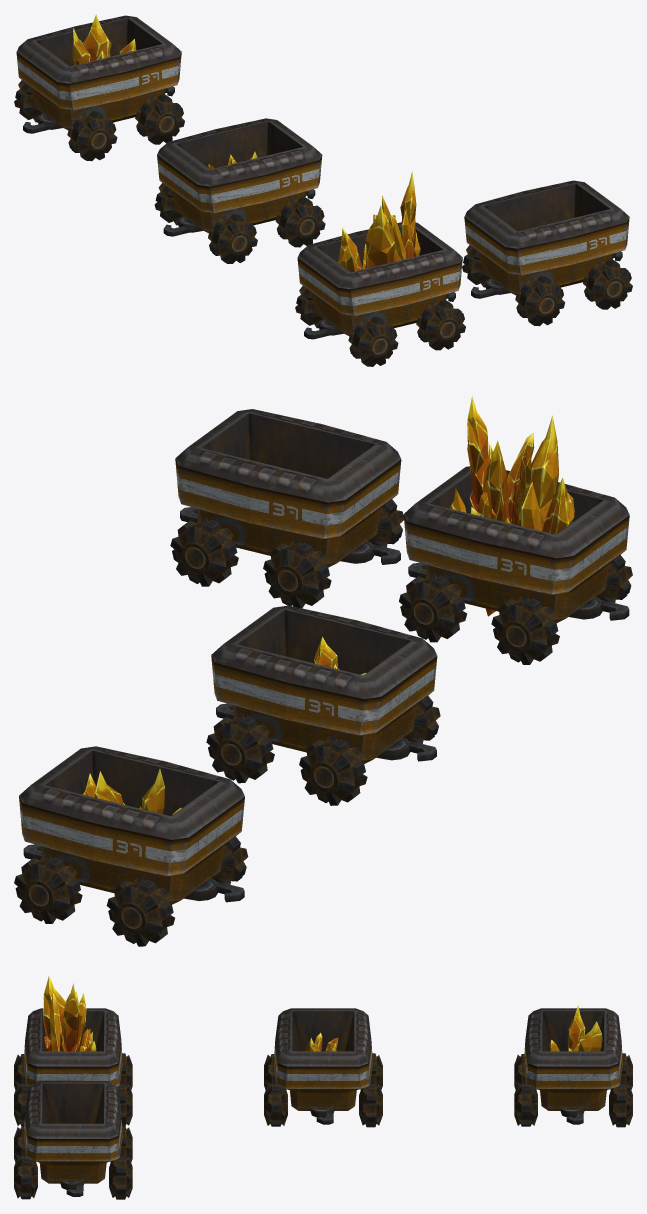
File: highyieldmineralcart.fbx
3 renders of one model, top to bottom at view 1: azimuth 30°, elevation 25°; view 2: azimuth 150°, elevation 25°; view 3: azimuth 270°, elevation 25°, orthographic. The views are drawn at different scales.
Visible parts, largest first — view 1: Geoset_1, Geoset_0; view 2: Geoset_1, Geoset_0; view 3: Geoset_1, Geoset_0.
Part boxes in pixels (x1=…): Geoset_1: x1=14, y1=15, x2=632, y2=366; Geoset_0: x1=72, y1=14, x2=420, y2=271; Geoset_1: x1=14, y1=409, x2=632, y2=946; Geoset_0: x1=82, y1=396, x2=574, y2=815; Geoset_1: x1=14, y1=1008, x2=632, y2=1199; Geoset_0: x1=43, y1=976, x2=602, y2=1051.
Bounding box in the file's own units: 3.48 × 1.65 × 6.55.
Materials: 2 (2 with a texture image).
